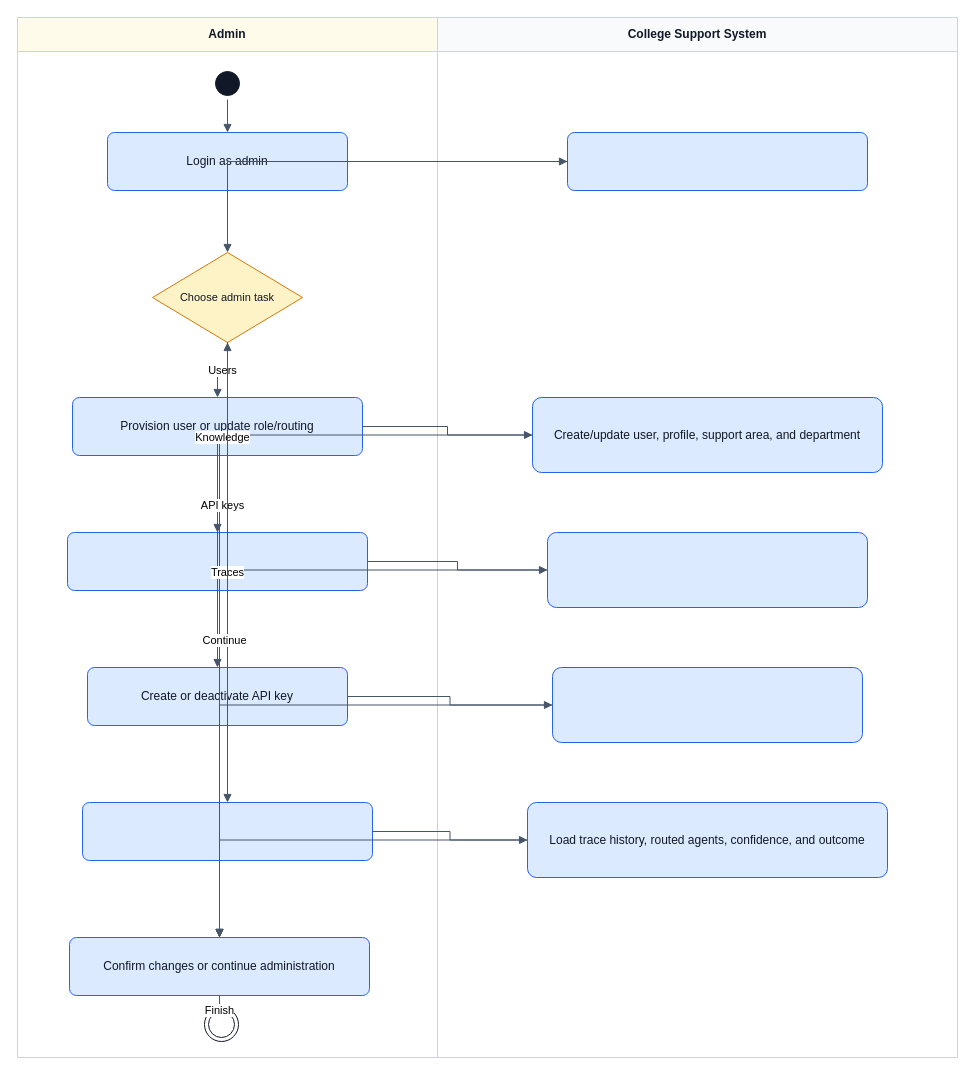
Some shapes in this 975 by 1075 pixel diagram are drawn without their labels. Here are the shapes that lost their labels. From the top down, the centre of each, then its label:
At (x=717, y=161): "Validate admin role and permissions".
At (x=217, y=561): "Create FAQ or upload knowledge document".
At (x=707, y=570): "Store content, split document, generate embeddings".
At (x=707, y=704): "Hash key, save scopes, apply rate limit policy".
At (x=227, y=831): "View orchestrator traces and reports".
